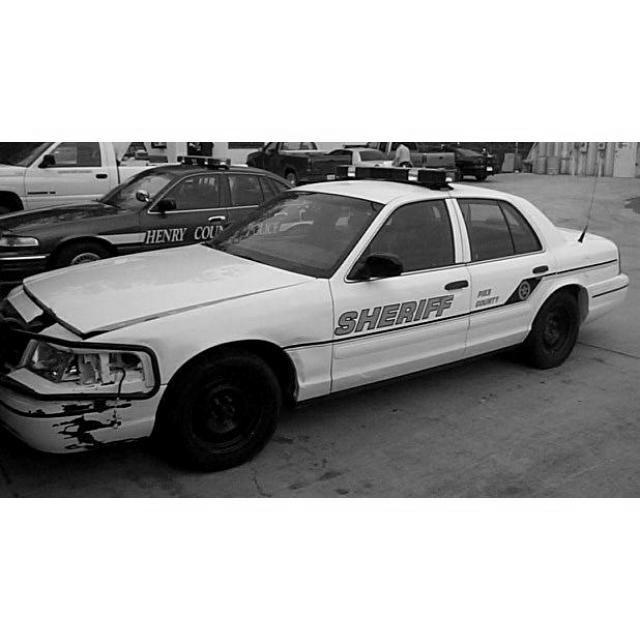bonnet-dent: (25, 247, 271, 316)
fender-dent: (227, 301, 340, 396)
front-bumper-dent: (7, 399, 150, 447)
